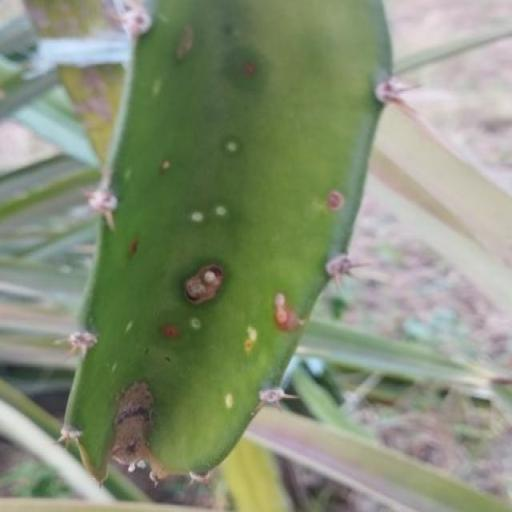stemcanker: (258, 276, 291, 379), (183, 226, 222, 284), (305, 246, 331, 318), (286, 380, 315, 438), (150, 274, 176, 327), (196, 333, 216, 376)
